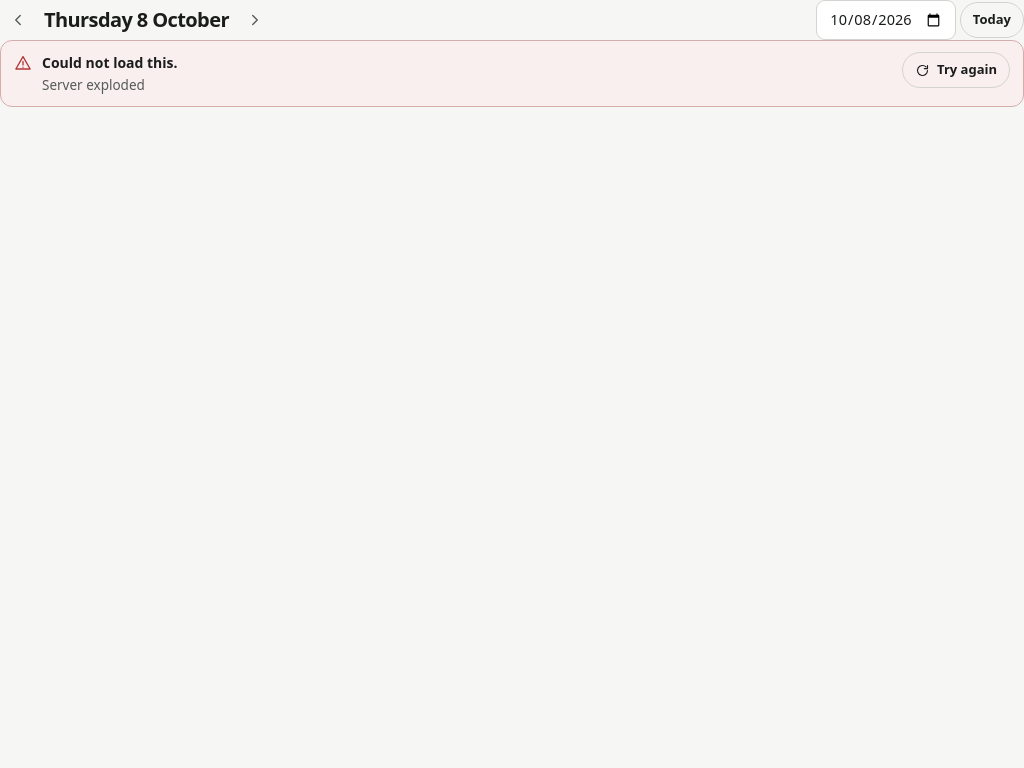
Day › shows a retryable error instead of zeros, then the data after a retry
Expected: the text "Server exploded" is shown, [42,76,145,94]
Click the button "Try again": click(956, 70) [902,52,1010,88]
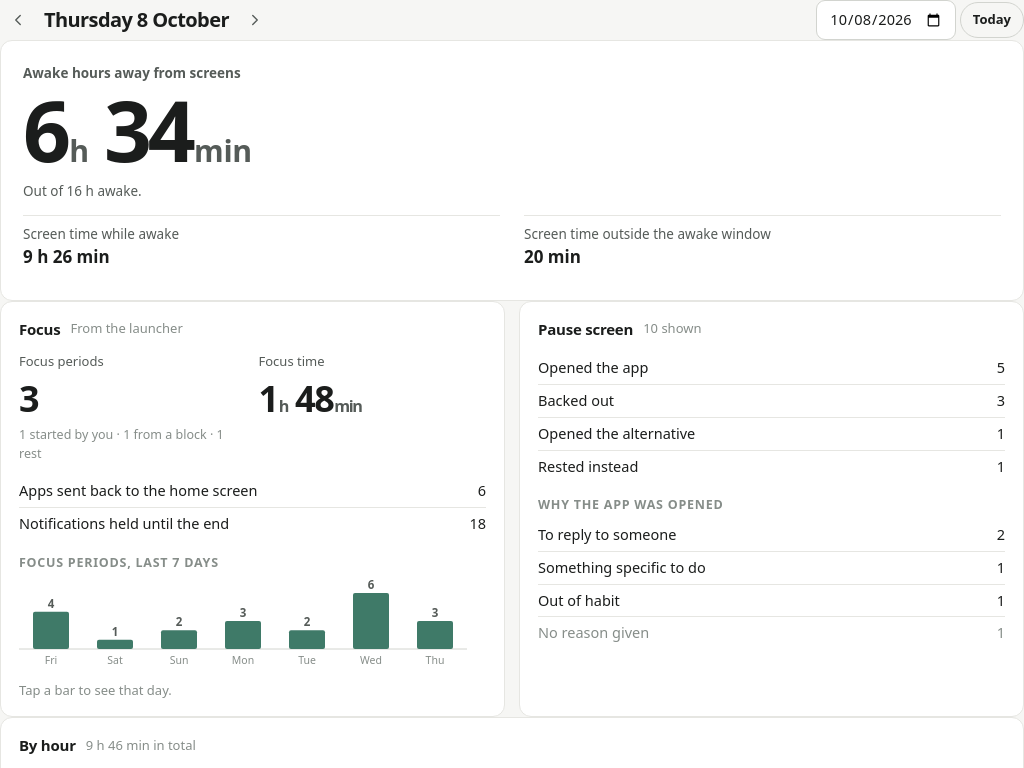
Expected: the element with test id "headline" is shown, [23,72,252,187]
